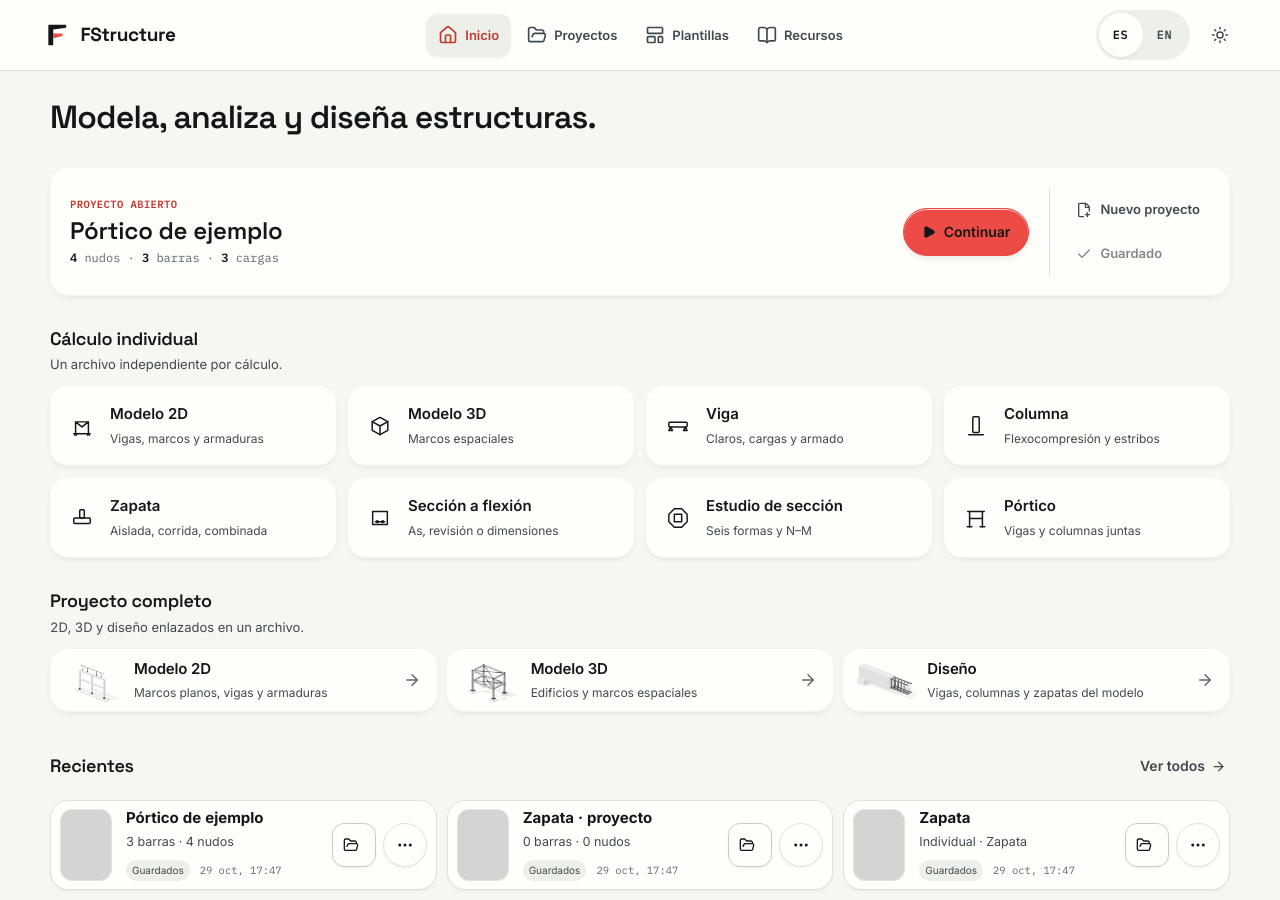
Test: standalone FStructure › el Modelo 2D individual vacío ofrece inicios que se calculan y se deshacen
This screenshot has width=1280, height=900.
Step 1. Click the button "Modelo 2D Vigas, marcos y armaduras" → (149, 414), box [50,386,336,466]
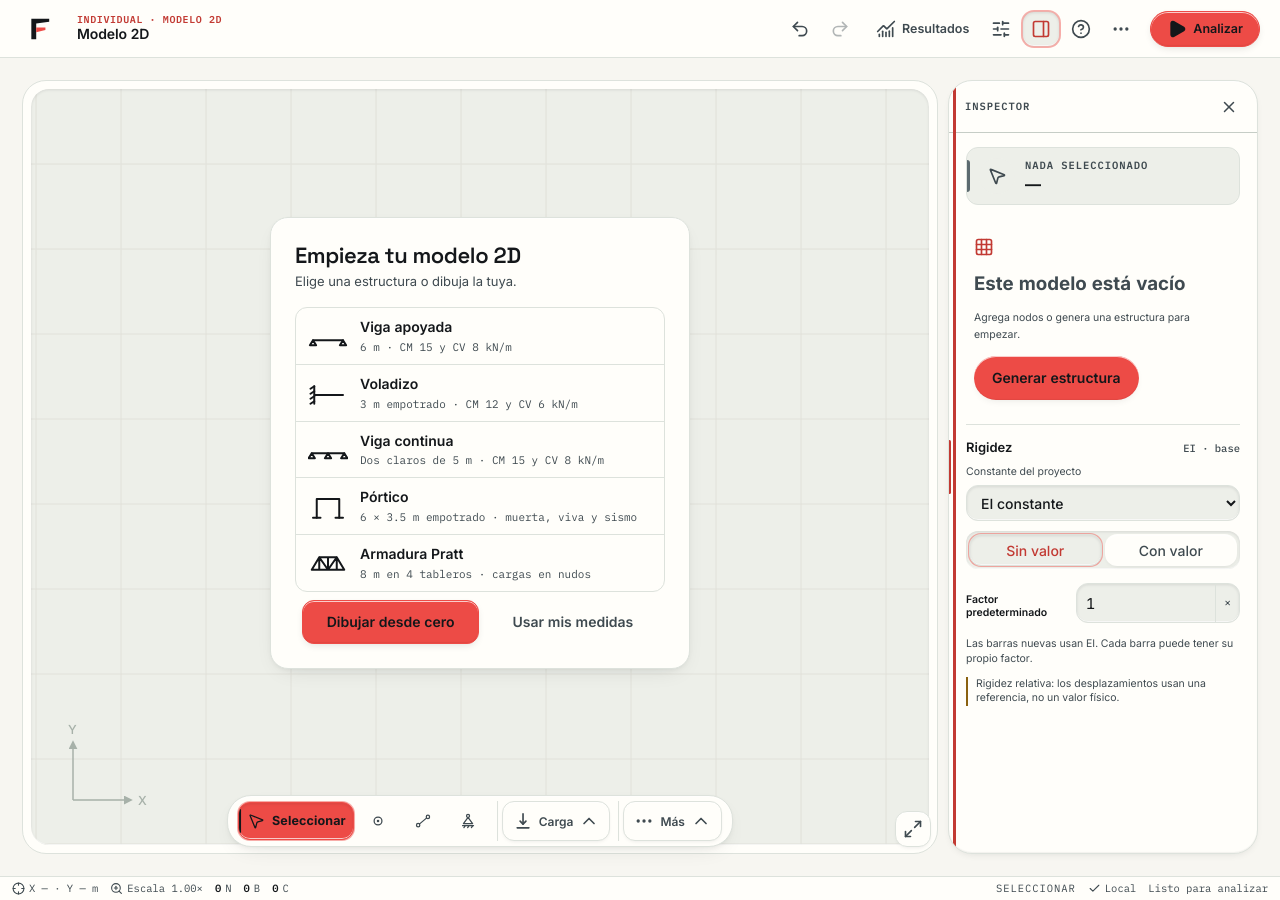
Expected: the heading "Empieza tu modelo 2D" is shown, [295,241,521,269]
Step 2. Click the button "Viga apoyada 6 m · CM 15 y CV 8 kN/m" → (328, 336), box [296,308,664,364]
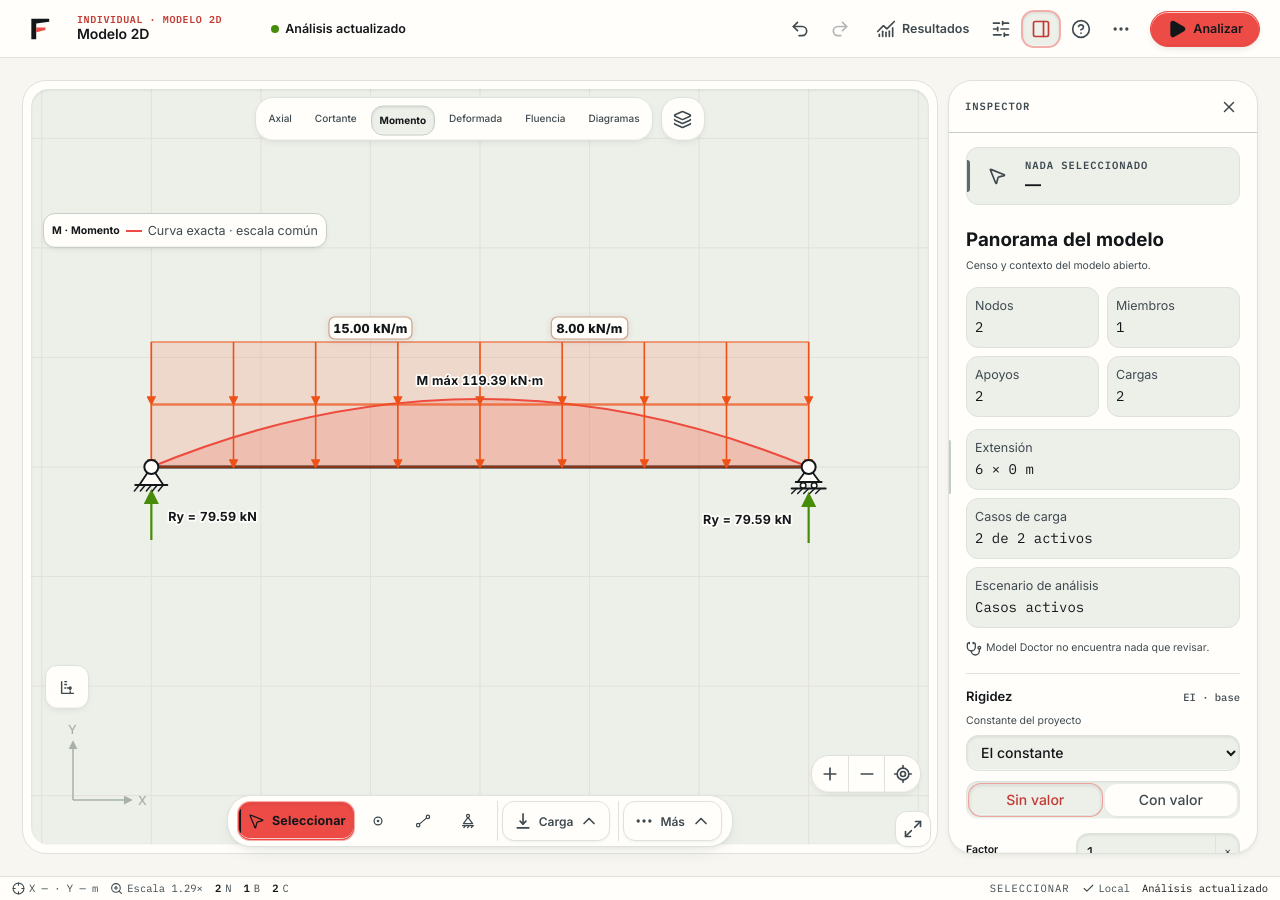
Expected: the heading "Empieza tu modelo 2D" is gone
Step 3. Click the button named "Deshacer" → (800, 28), box [781,10,819,46]
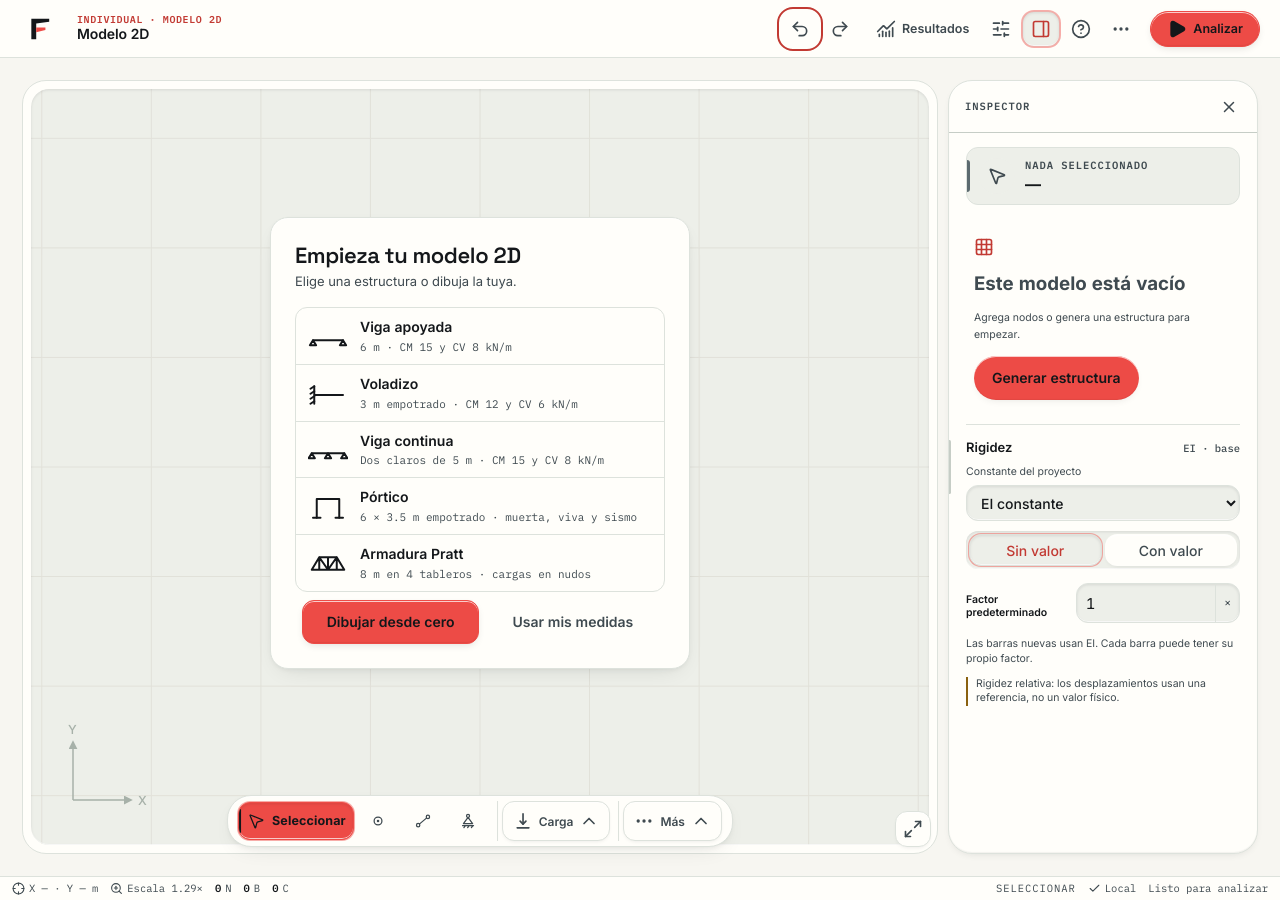
Expected: the heading "Empieza tu modelo 2D" is shown, [295,241,521,269]
